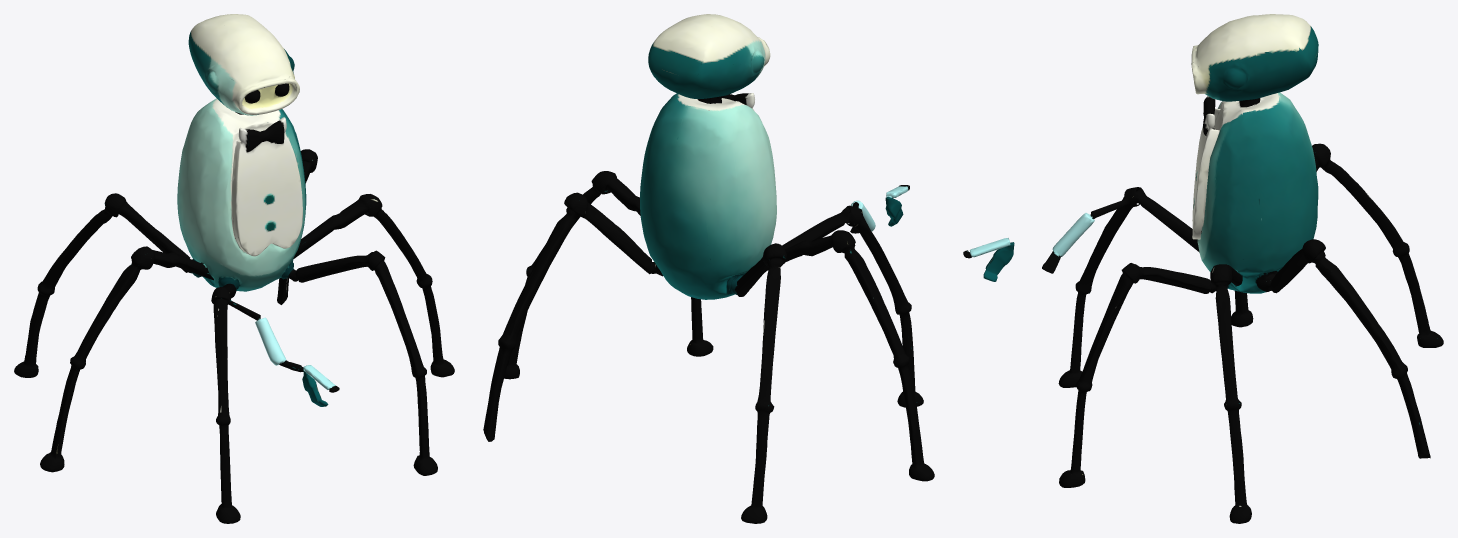
The model's file is server.glb.
The picture shows the model from 3 angles, left to right: view 1: azimuth 30°, elevation 25°; view 2: azimuth 150°, elevation 25°; view 3: azimuth 270°, elevation 25°; orthographic projection. The views are drawn at different scales.
Bounding box in the file's own units: 0.9433 × 0.8862 × 0.9246.
1 material, 1 textured.
